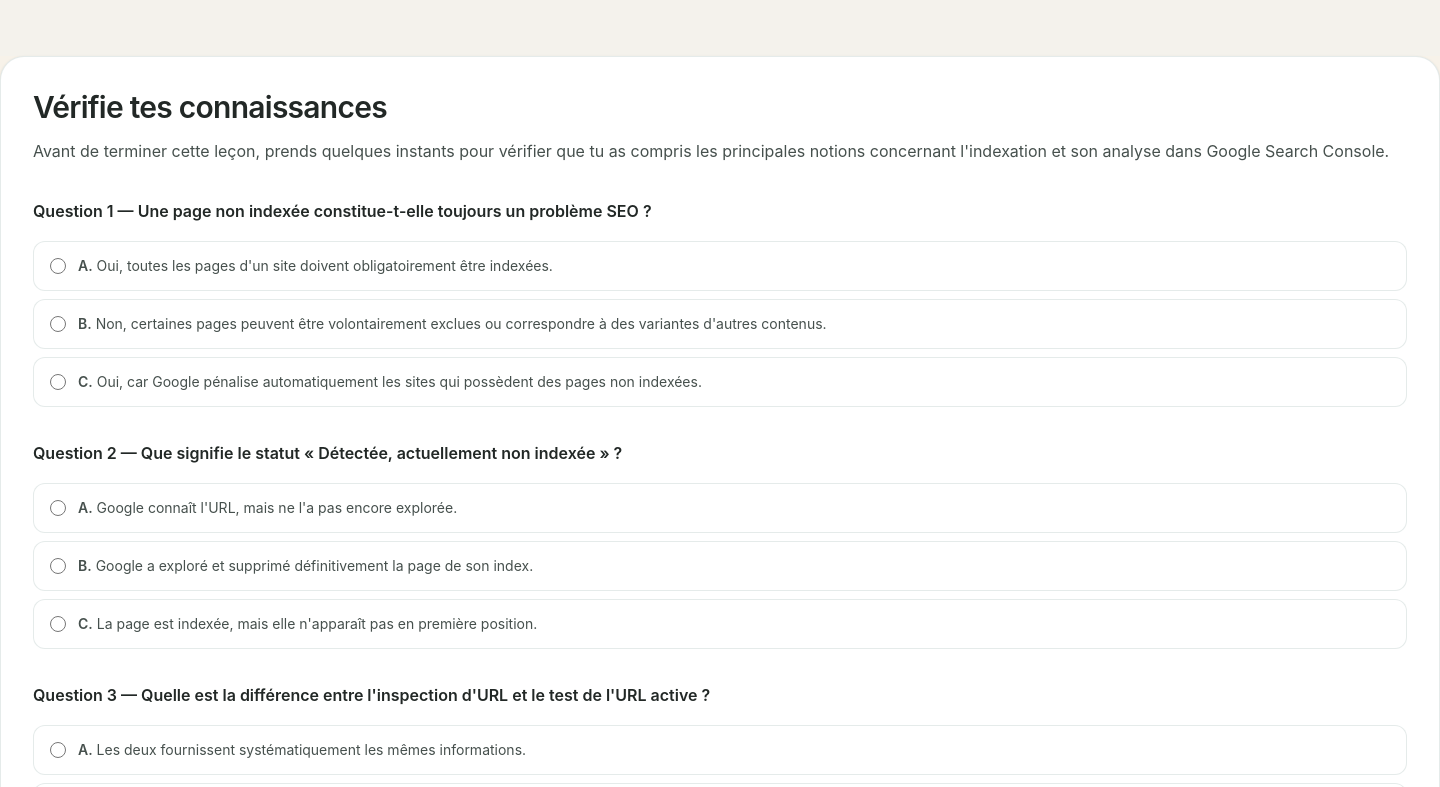
it: questionnaire de la cinquième leçon SEO › corrige les quatre questions après validation
Expected: the text "Question 4 : B." is not shown
Click the radio button named "quiz-question-1" at [58, 324], box left=50, top=316, right=66, bottom=332
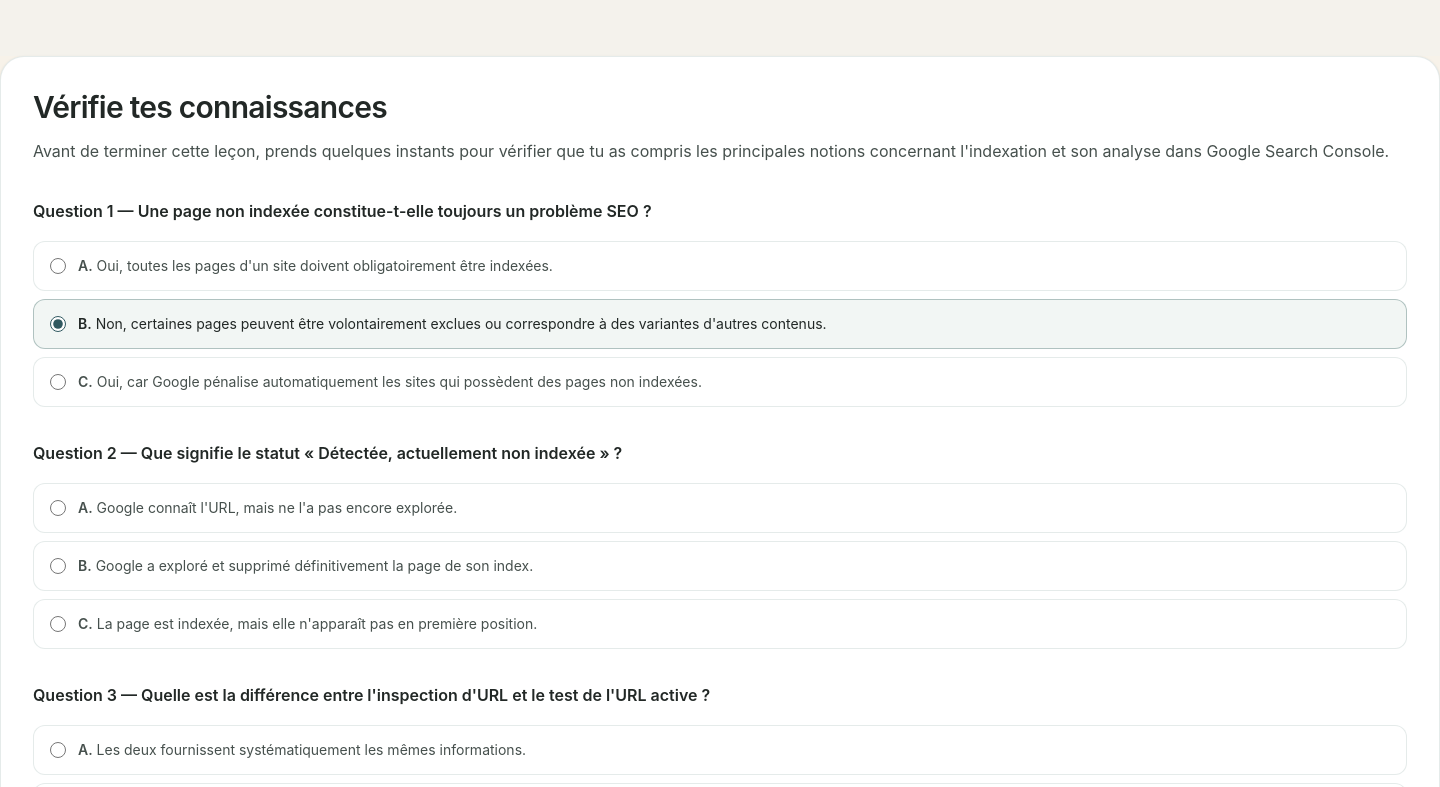
Click the radio button named "quiz-question-2" at [58, 508], box left=50, top=500, right=66, bottom=516
(page scrolled)
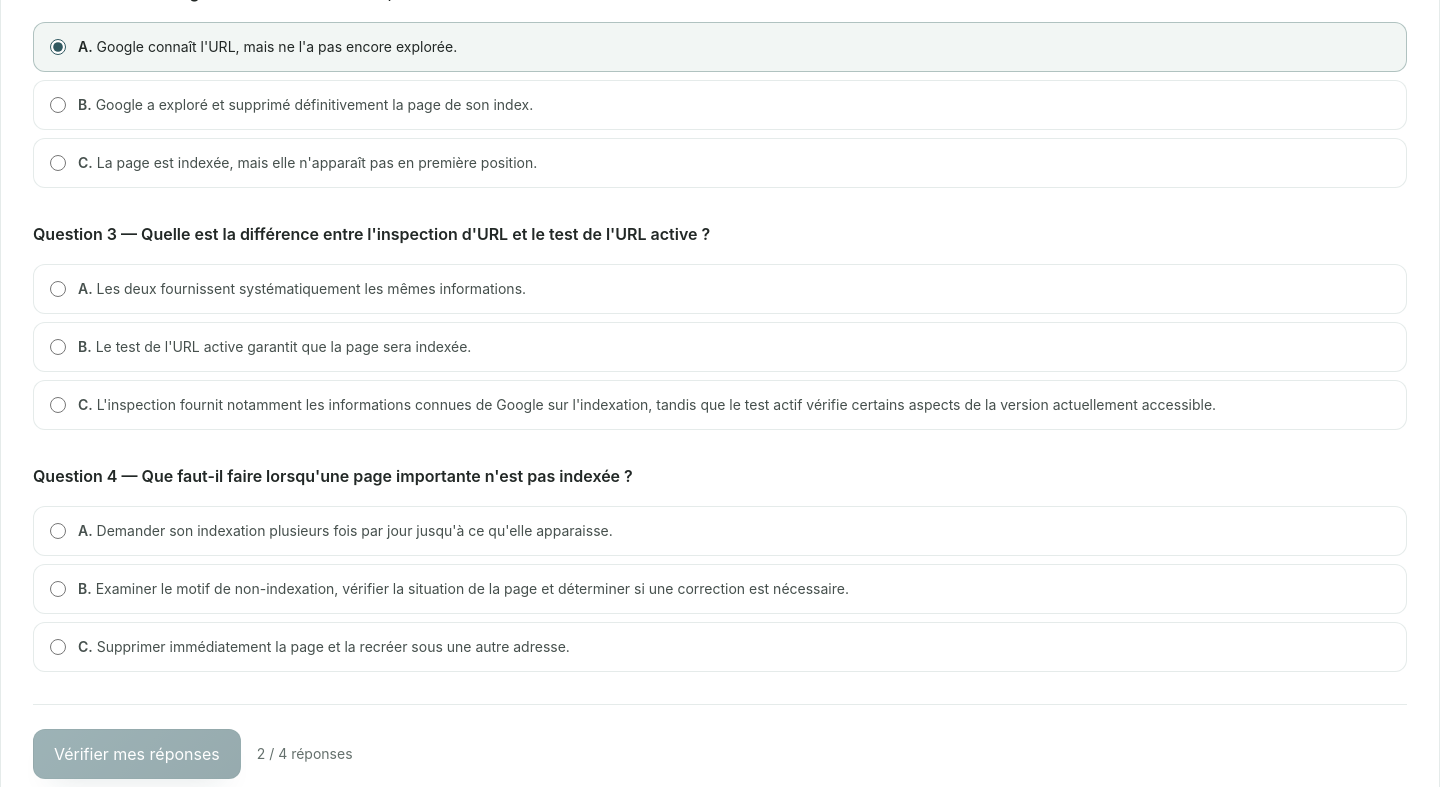
Click the radio button named "quiz-question-3" at [58, 405], box left=50, top=397, right=66, bottom=413
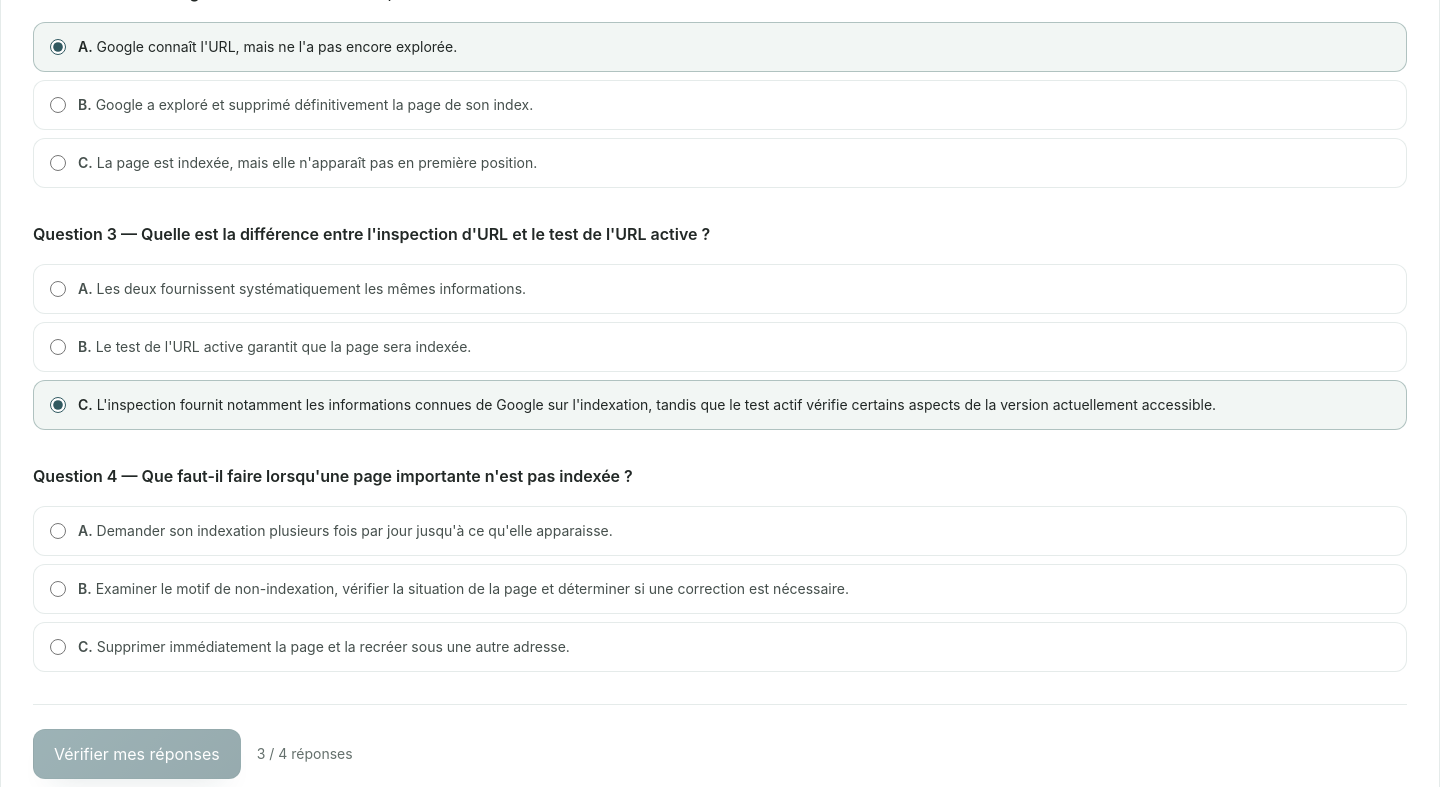
Click the radio button named "quiz-question-4" at [58, 589], box left=50, top=581, right=66, bottom=597
(page scrolled)
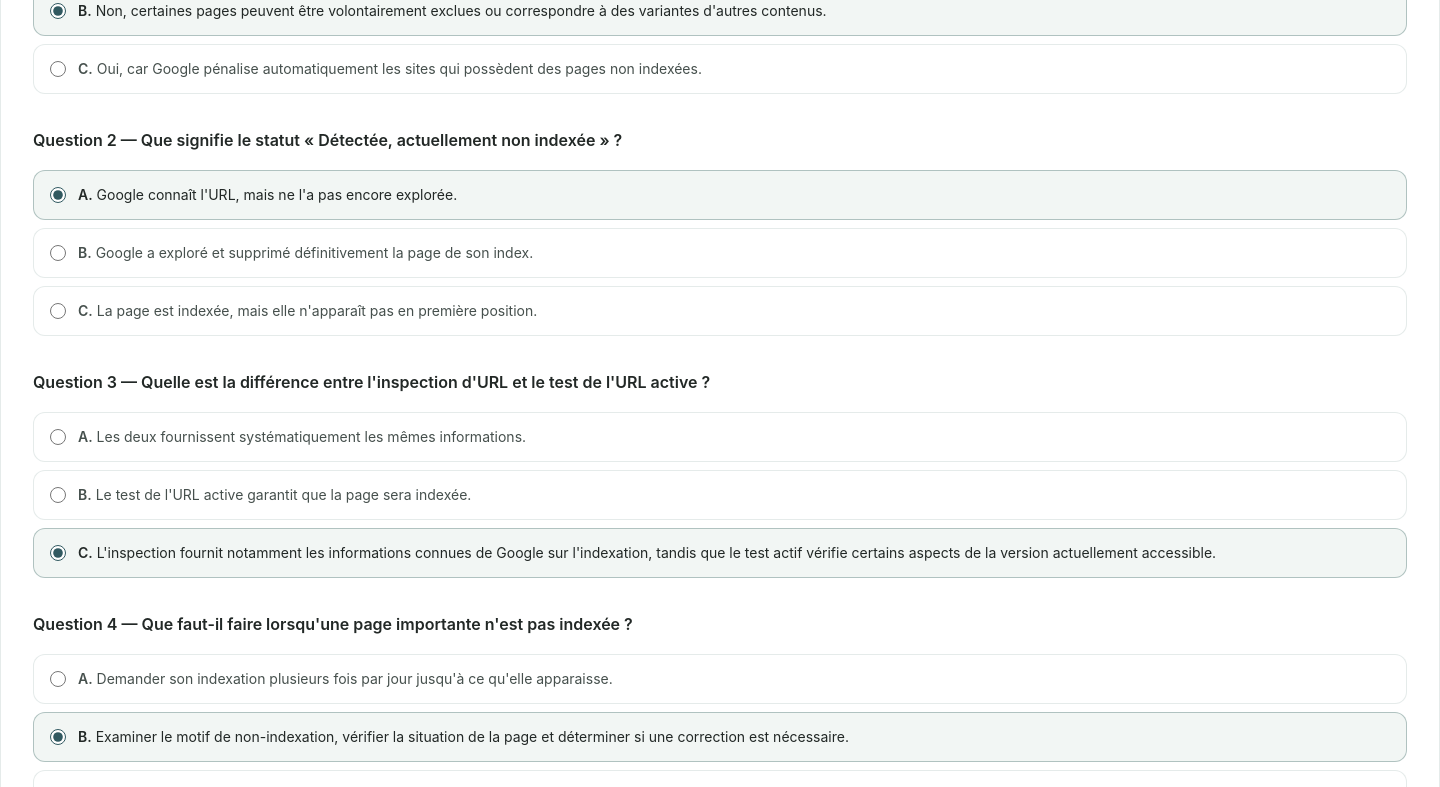
Submit the form
(page scrolled)
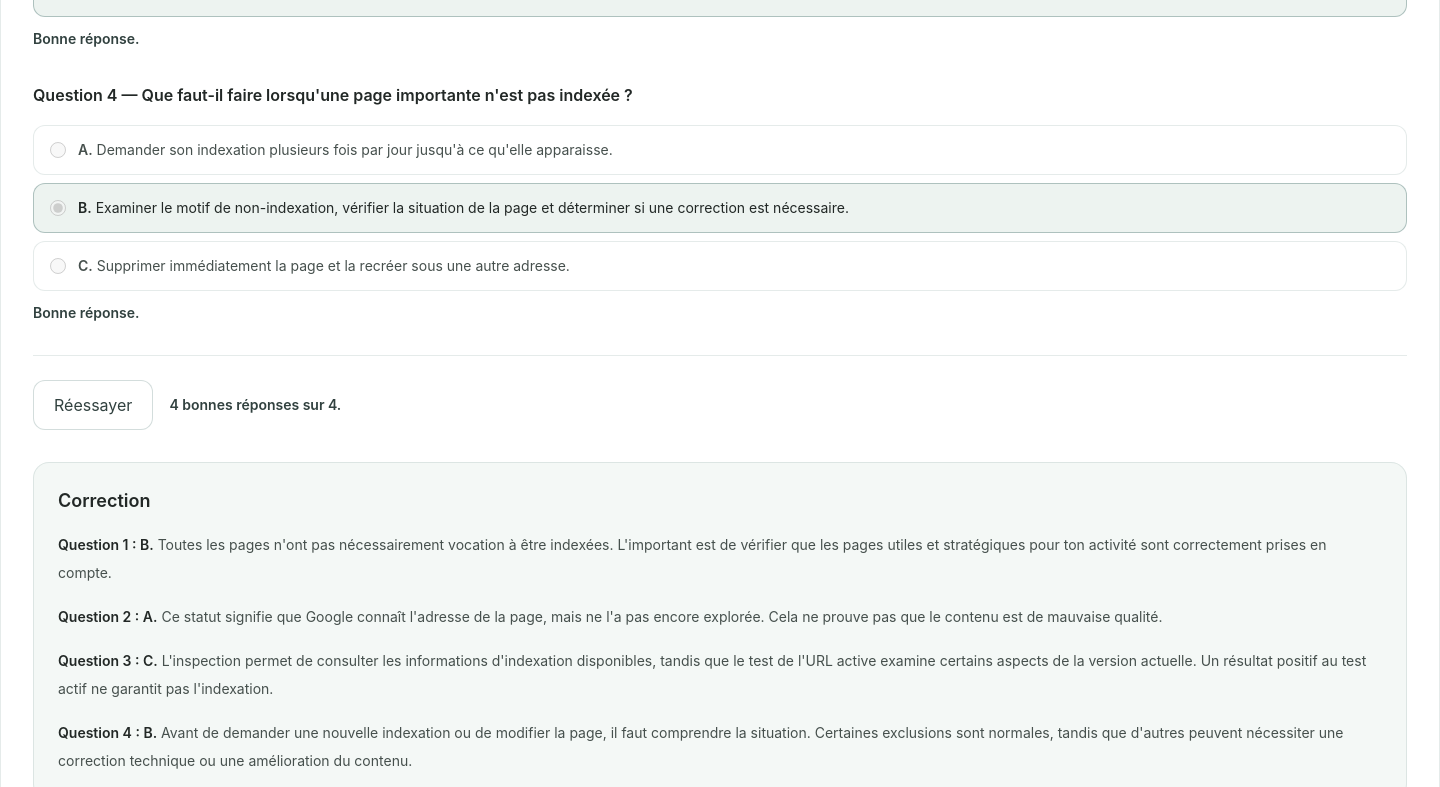
Now the message "4 bonnes réponses sur 4." is shown, box left=169, top=395, right=341, bottom=415
Now the text "Question 4 : B." is shown, box left=58, top=724, right=157, bottom=741
Now the text "Certaines exclusions sont normales" is shown, box left=58, top=724, right=1344, bottom=769
